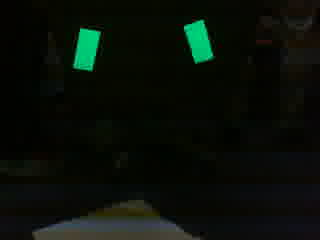target: (71, 14, 215, 73)
